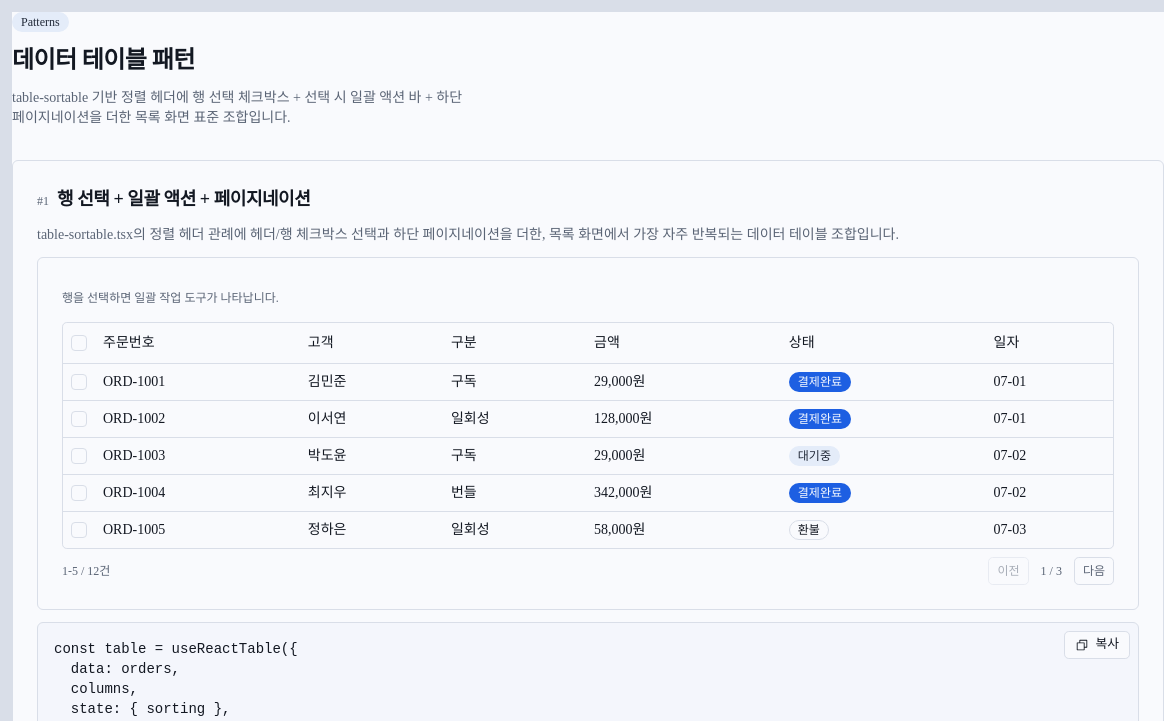
Test: DataTablePatternsPage › hides the bulk action bar until a row is selected, then shows it with the selected count
Expected: the text "행을 선택하면 일괄 작업 도구가 나타납니다." is shown, [62,290,279,306]
Expected: the button "삭제" is not shown
Click the checkbox named "ORD-1001 선택": coordinates (79, 382) [71,374,87,390]
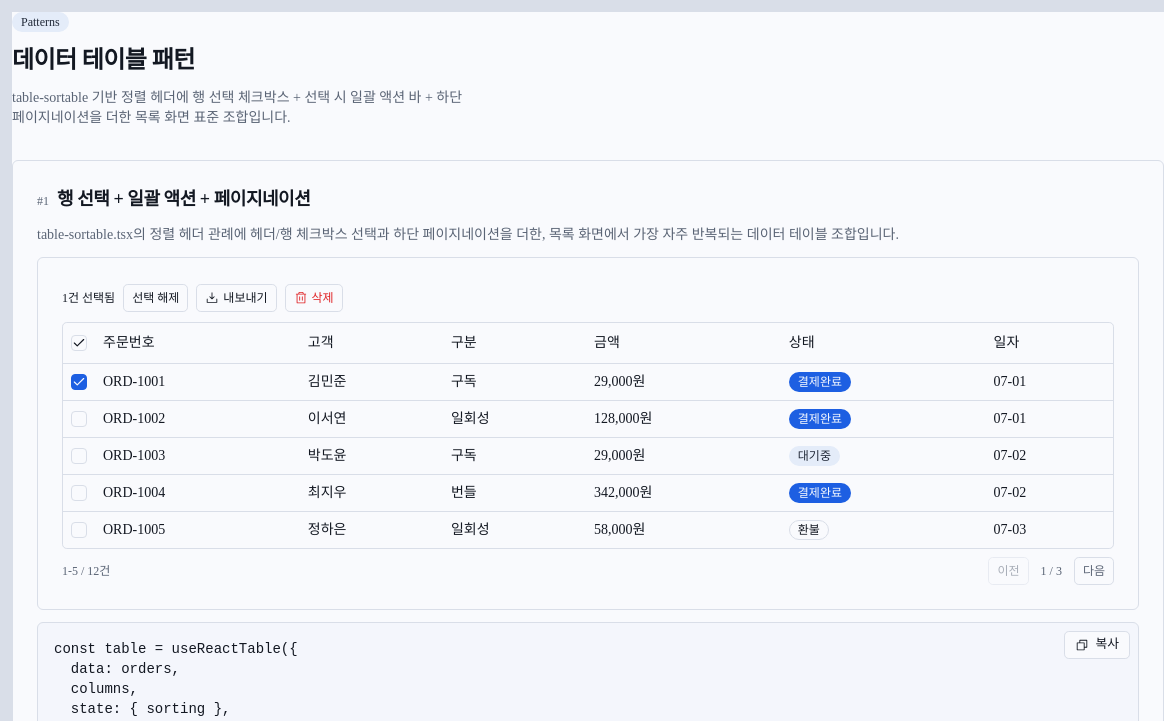
Expected: the text "1건 선택됨" is shown, [62,290,115,306]
Expected: the button "삭제" is shown, [284,284,343,312]
Expected: the button "내보내기" is shown, [196,284,276,312]
